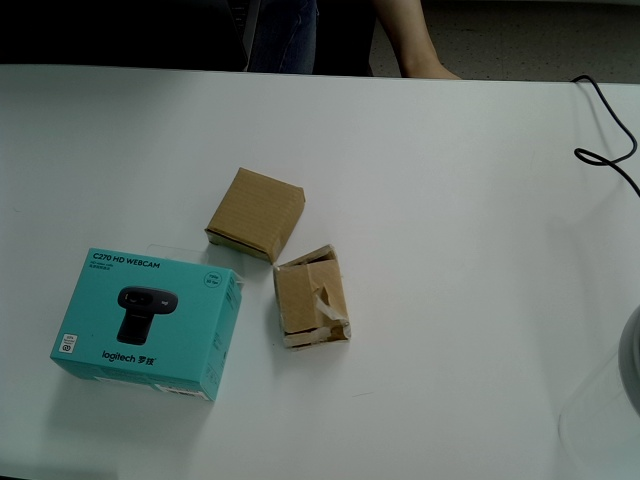defect: (273, 244, 352, 351)
normal: (205, 166, 306, 264)
